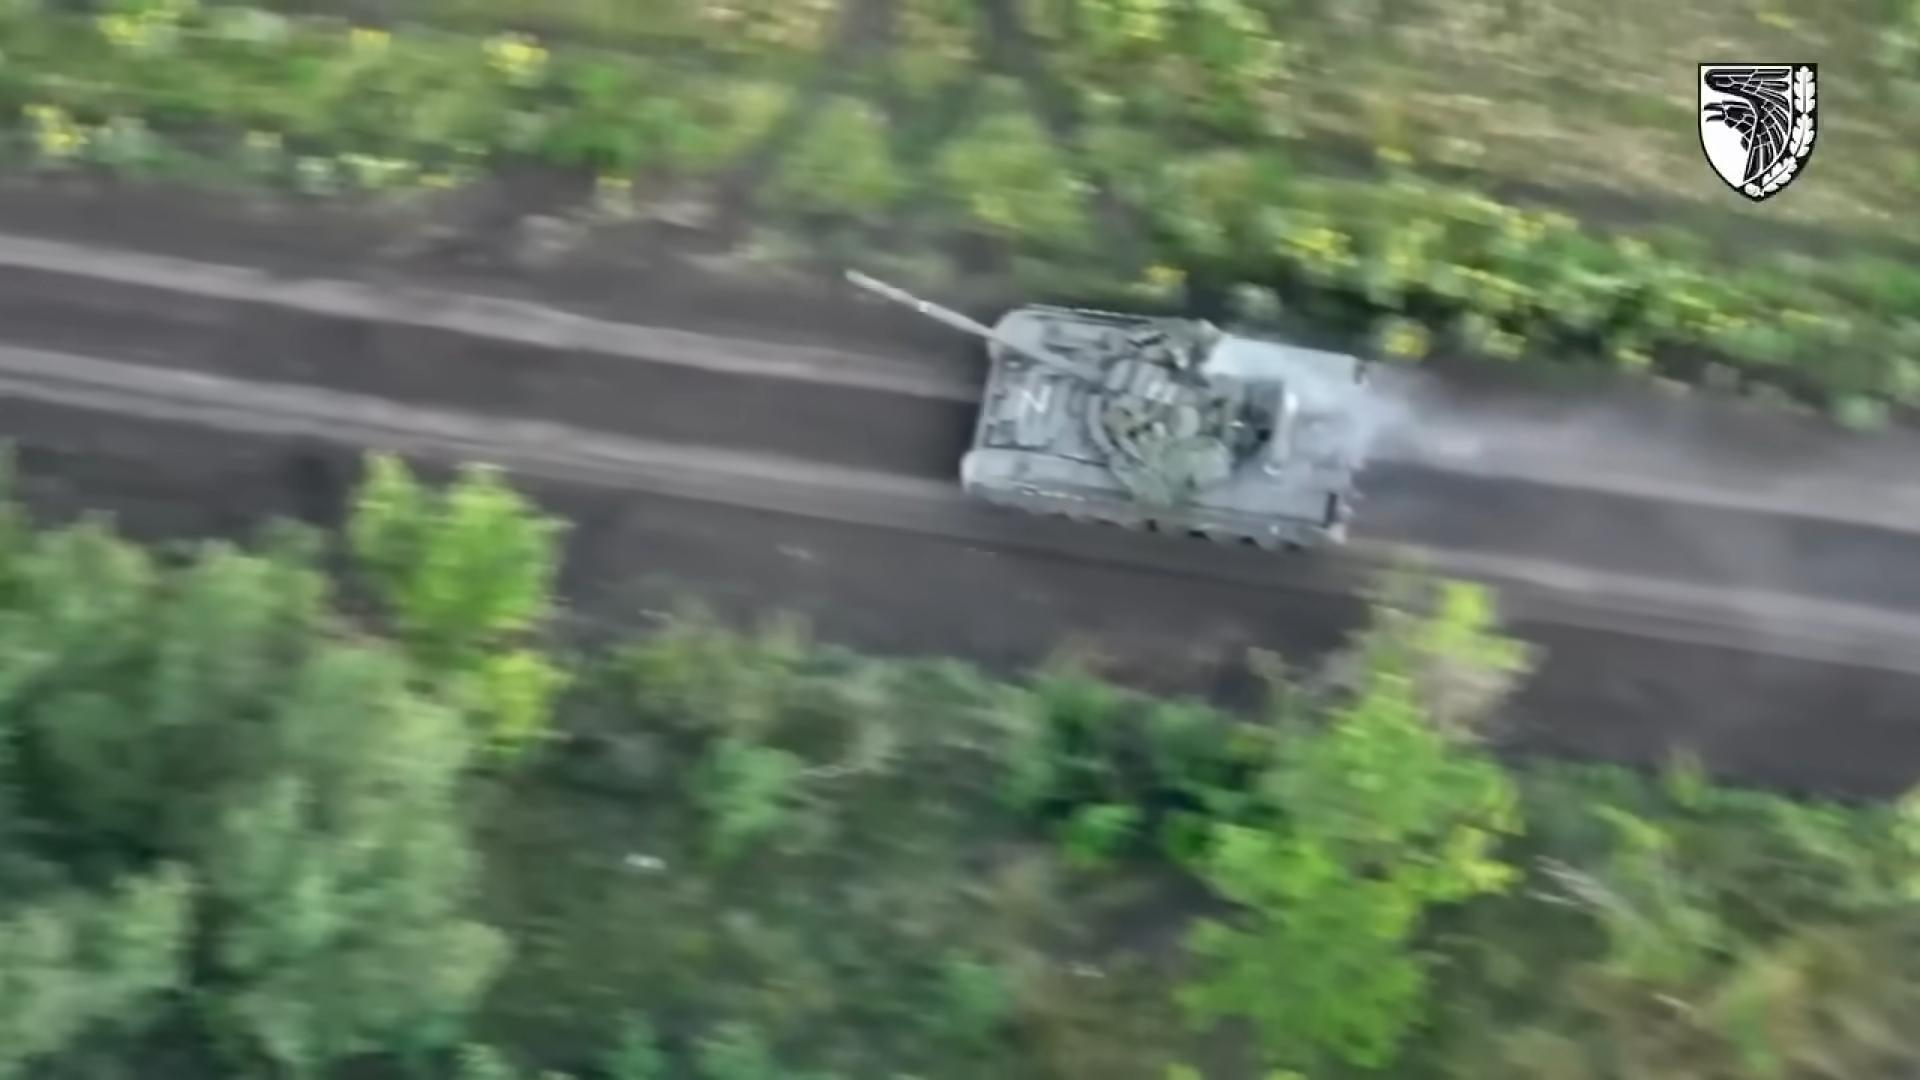tank: (847, 268, 1373, 553)
